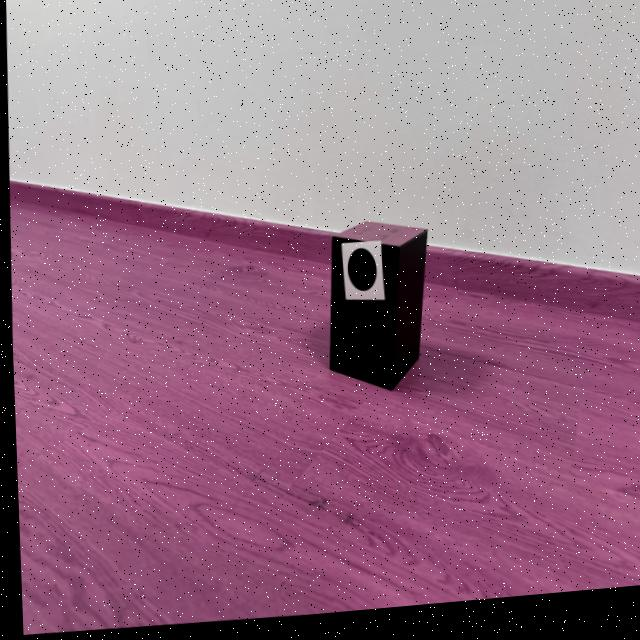CIRCLE: (345, 254, 374, 298)
